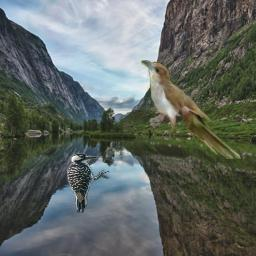Cuckoo: (141, 60, 241, 159)
Woodpecker: (65, 153, 110, 213)
